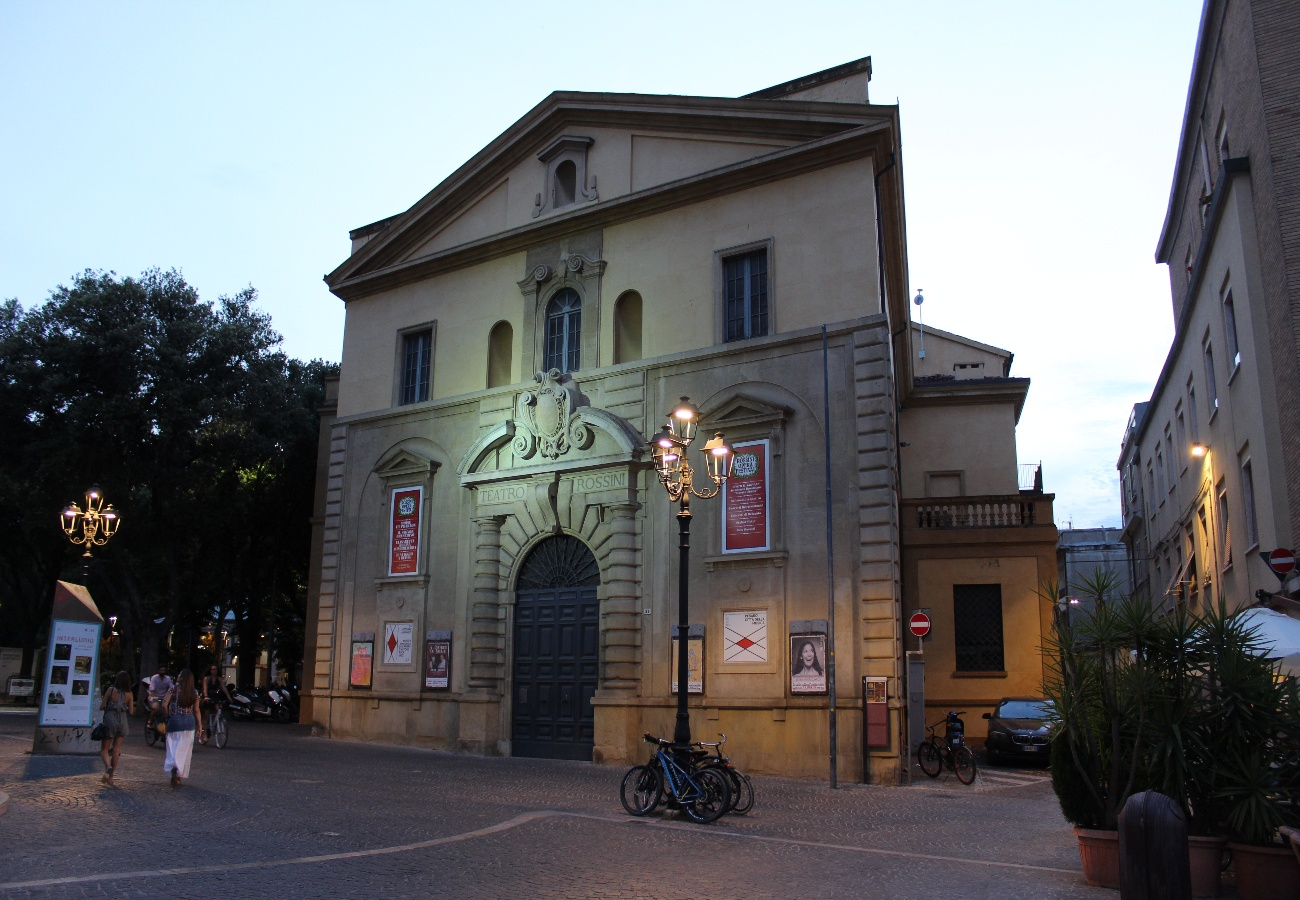Teatro Rossini: (312, 89, 896, 772)
